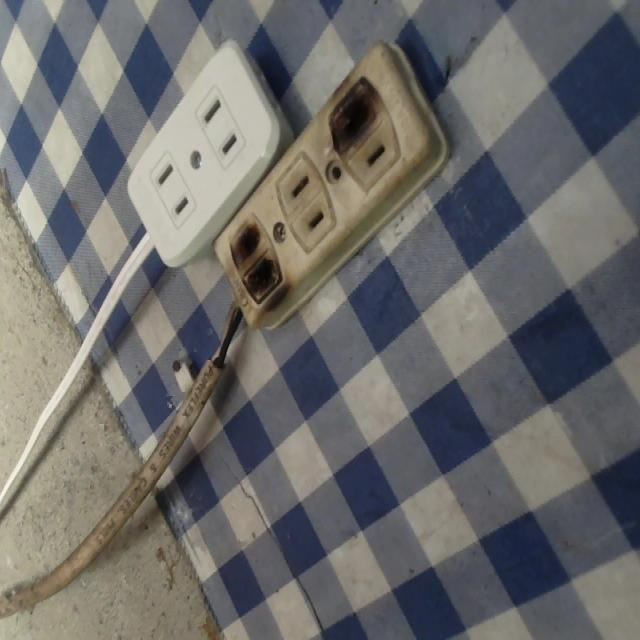-: (224, 213, 290, 316), (325, 70, 384, 154)
